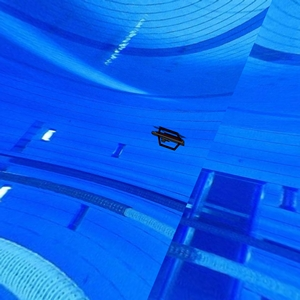submarine: (150, 124, 187, 154)
